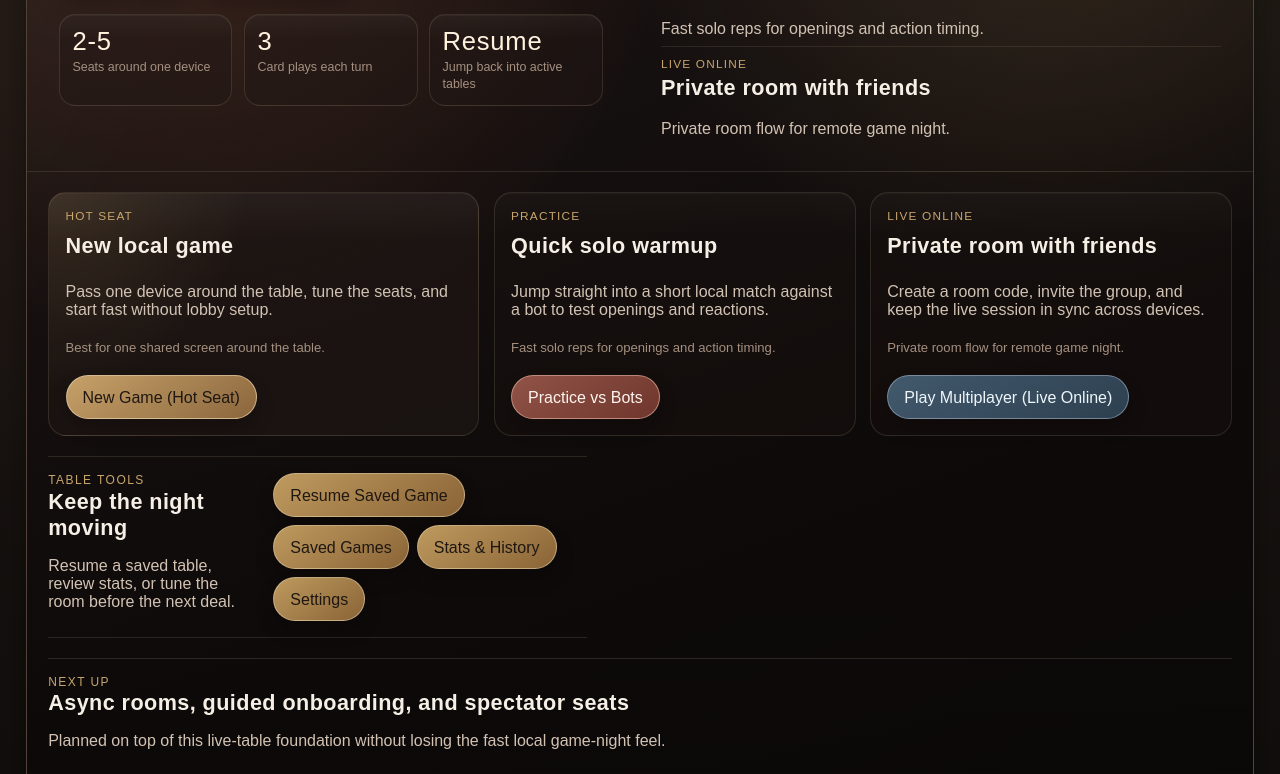
Test: App › shows and uses undo controls for reversible plays in the same turn
The width and height of the screenshot is (1280, 774).
(page scrolled)
Click the button "New Game (Hot Seat)" at coordinates (161, 397), box [66, 375, 257, 419]
(page scrolled)
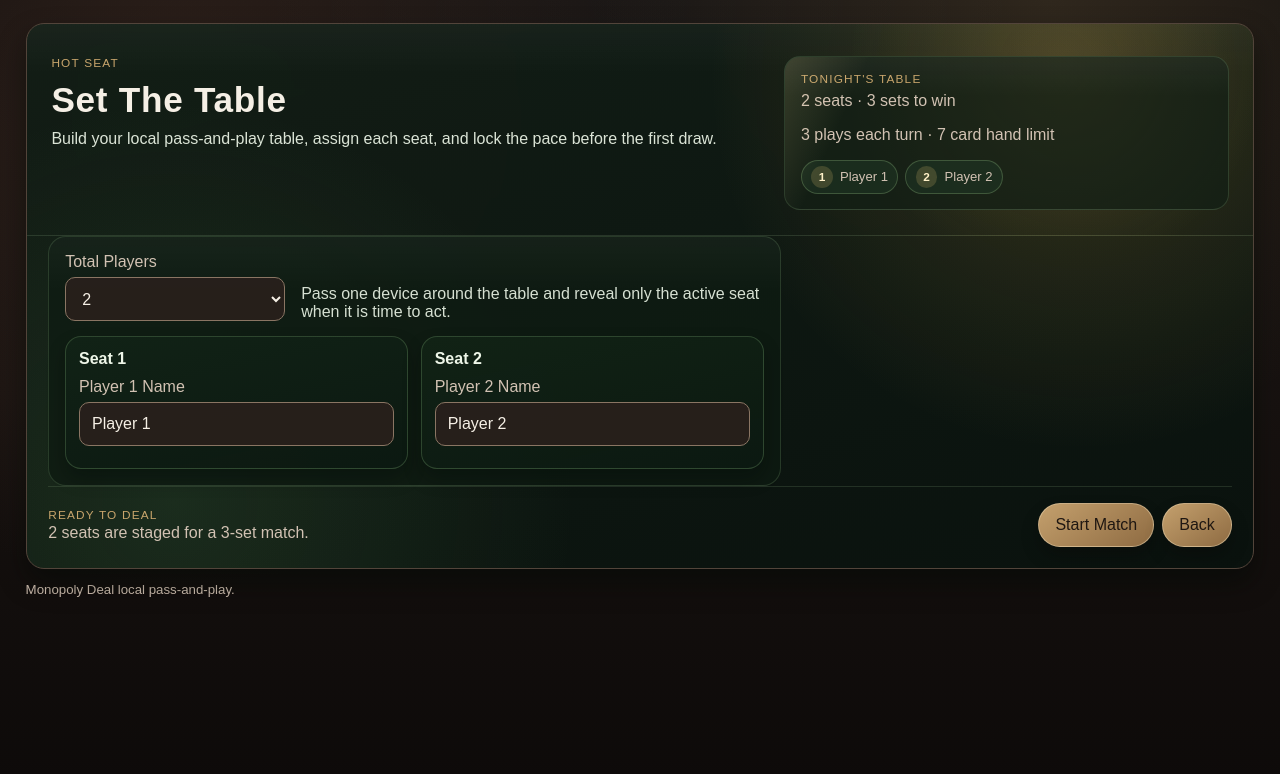
Click the button "Start Match" at coordinates (1096, 525), box [1038, 503, 1154, 547]
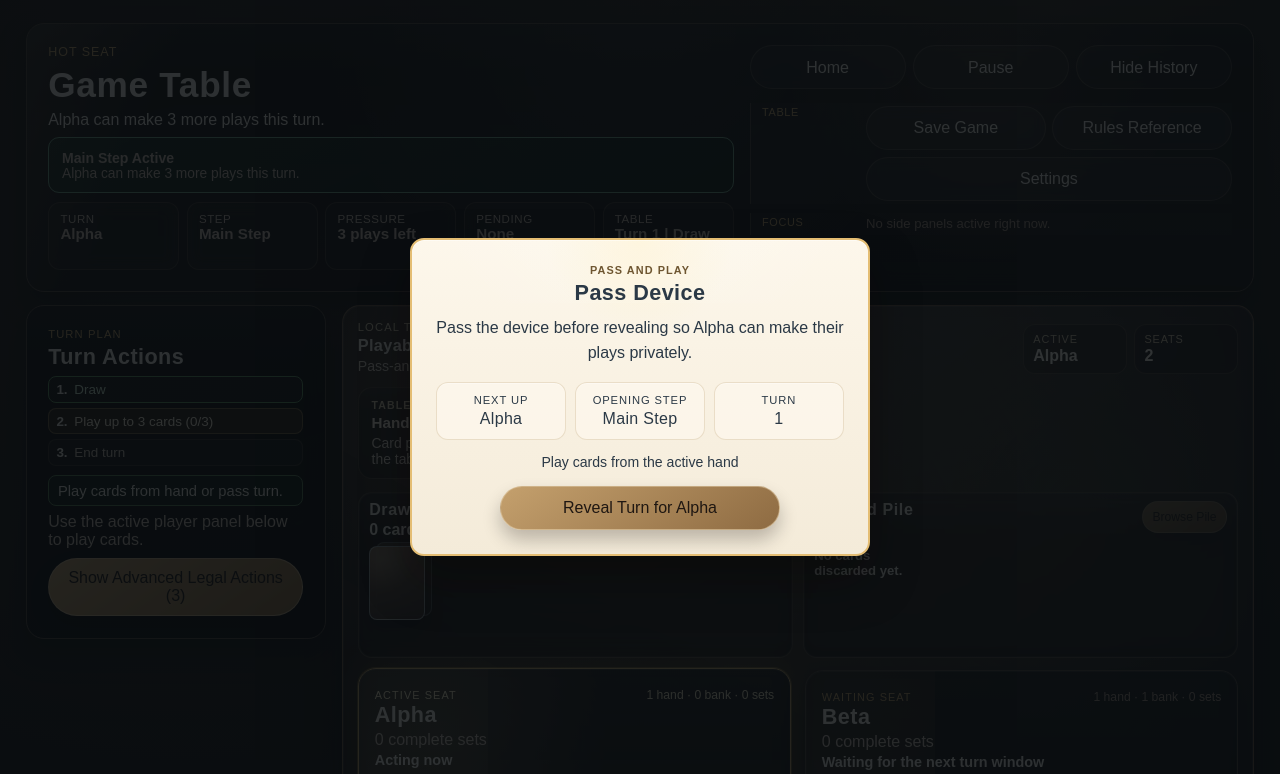
Click the button "Reveal Turn for Alpha" at coordinates (640, 508), box [500, 486, 780, 530]
(page scrolled)
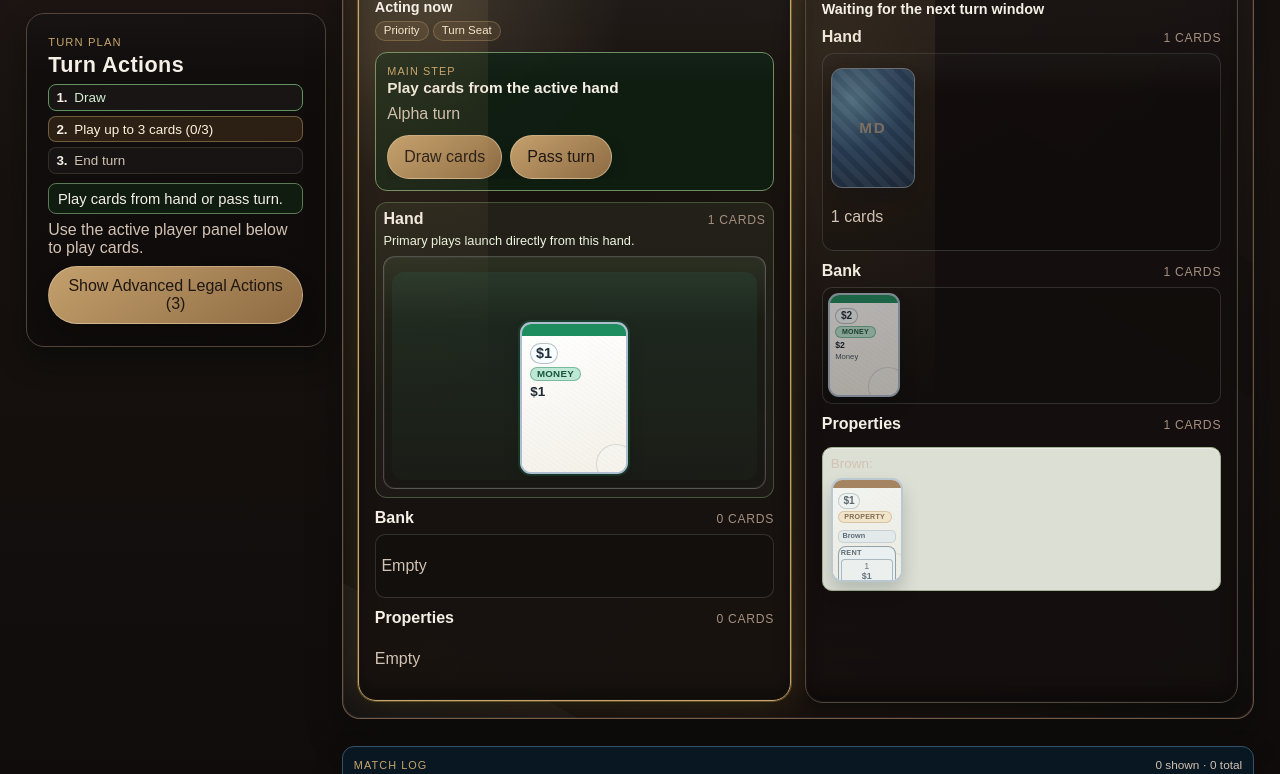
Click the button with aria-label "$1 card" at coordinates (574, 398), box [520, 322, 628, 474]
(page scrolled)
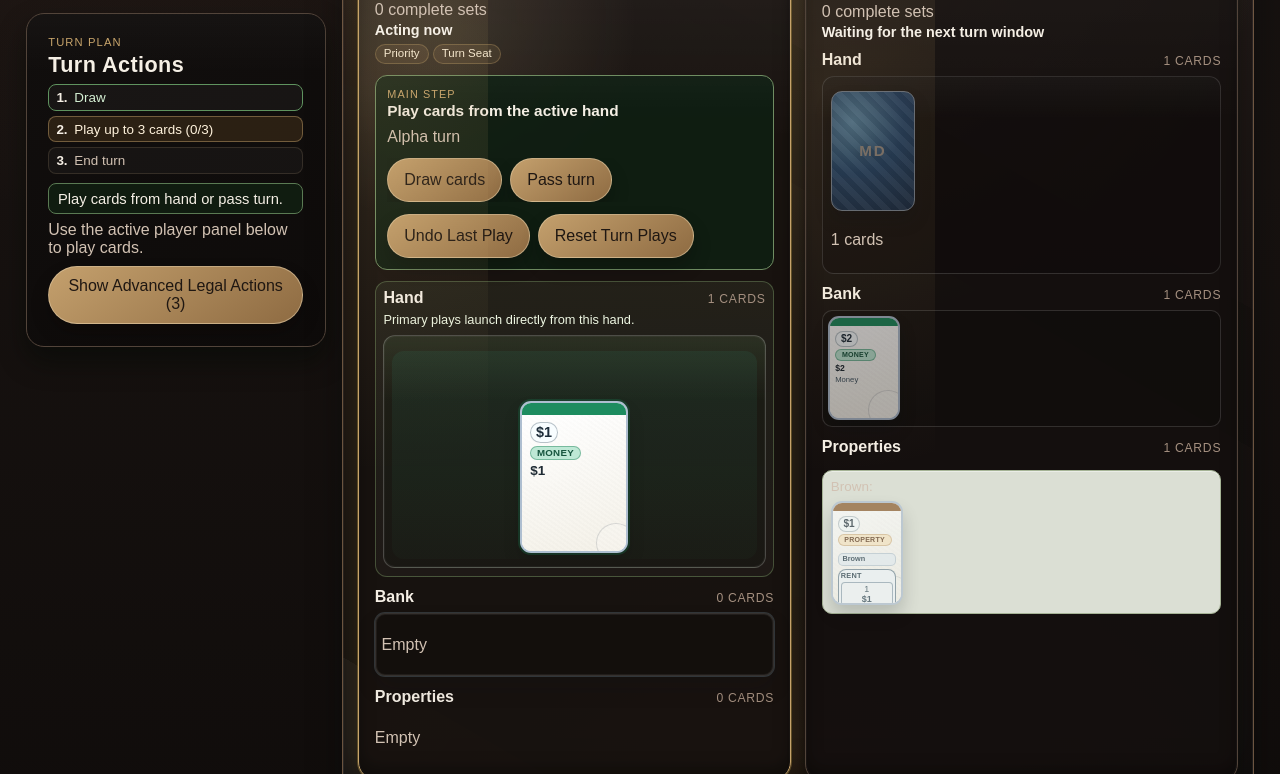
Check: the button "Undo Last Play" is shown
Click the button "Undo Last Play" at coordinates (459, 236), box [387, 214, 530, 258]
(page scrolled)
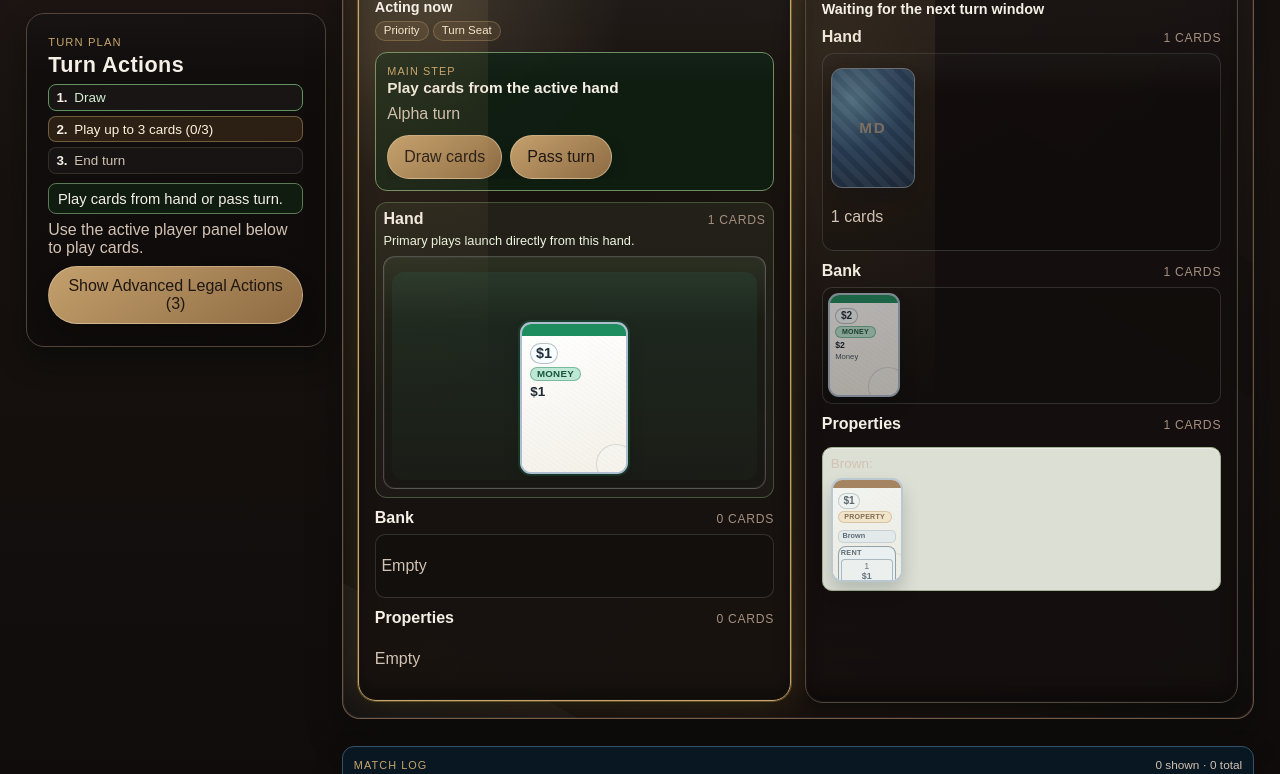
Check: the button "Undo Last Play" is gone
